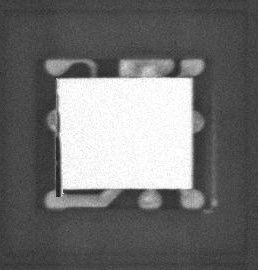DIE_BROKEN: (54, 135, 63, 199)
